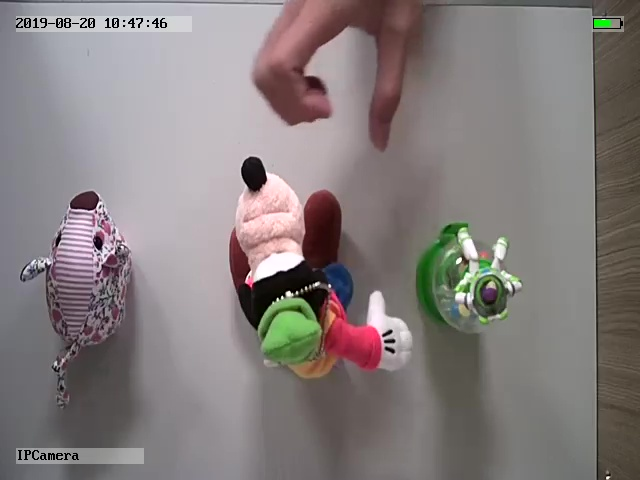buzz: (415, 220, 526, 338)
goofy: (225, 154, 415, 385)
pig: (17, 190, 134, 411)
